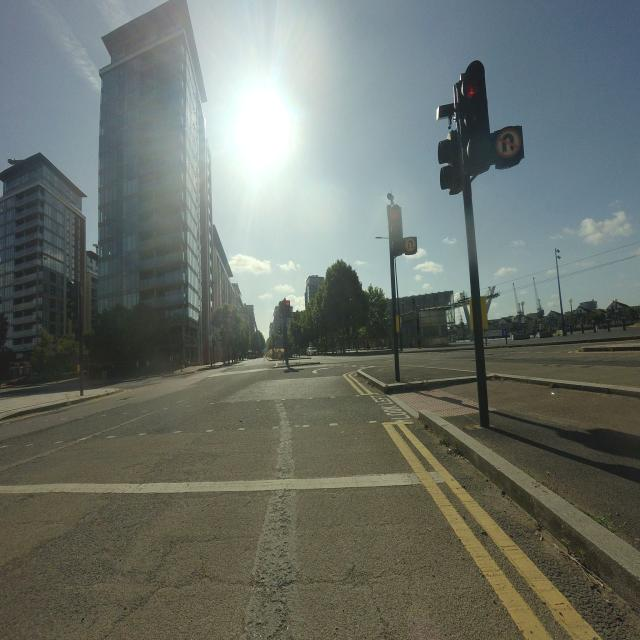car: (307, 346, 317, 356)
